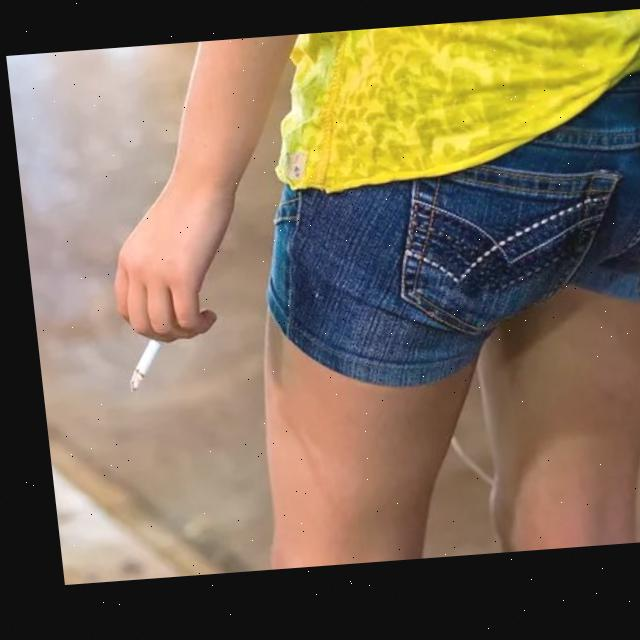cigarette: (117, 338, 158, 393)
